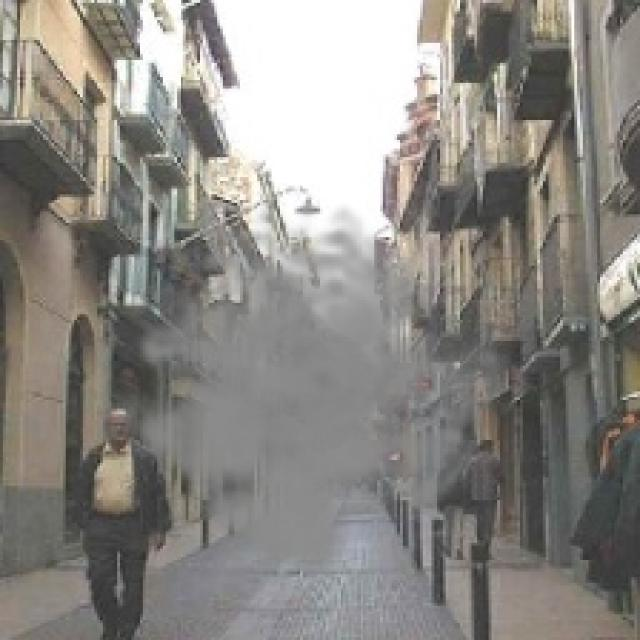smoke: (97, 203, 520, 577)
